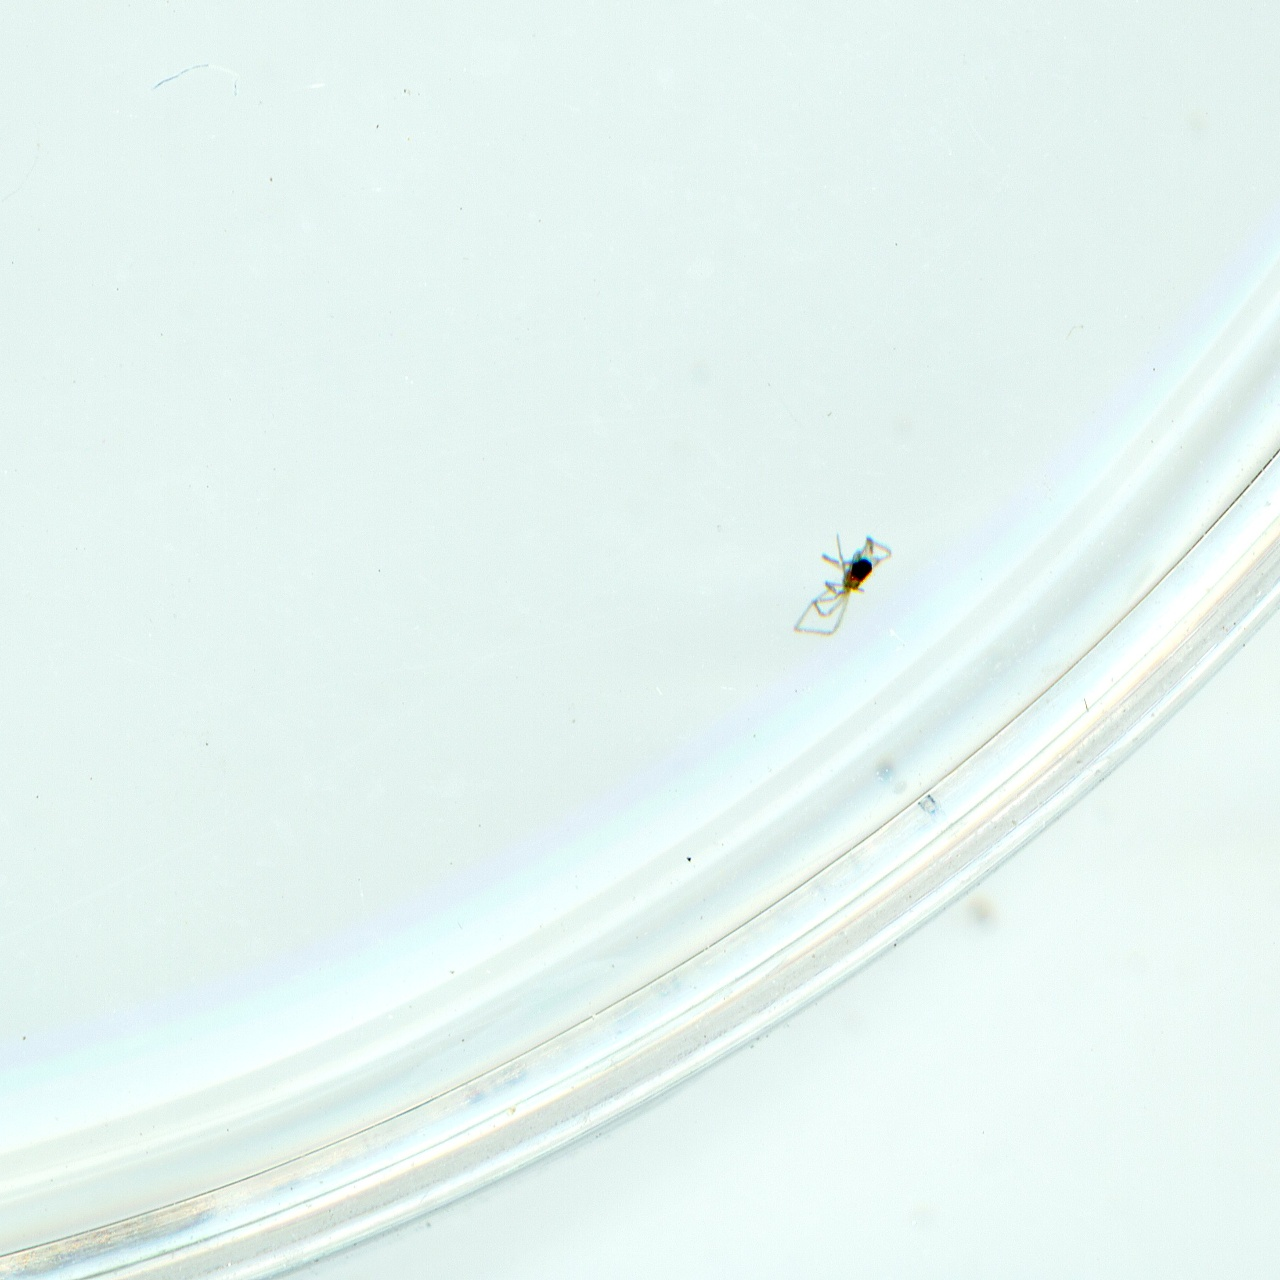arthropod: (775, 513, 900, 659)
